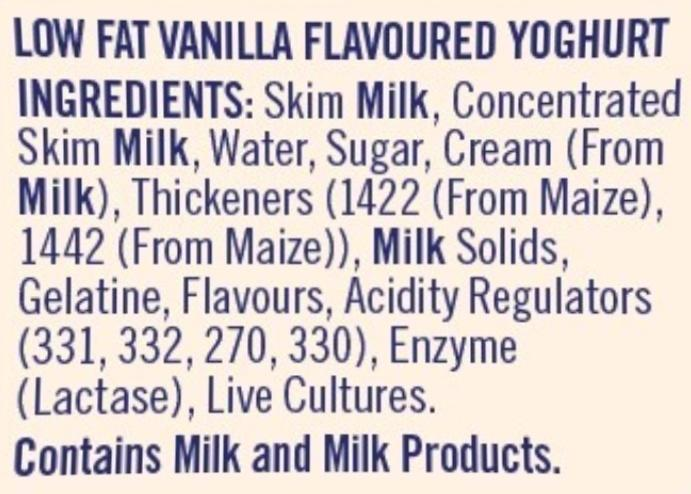ingredients: (8, 10, 686, 484)
